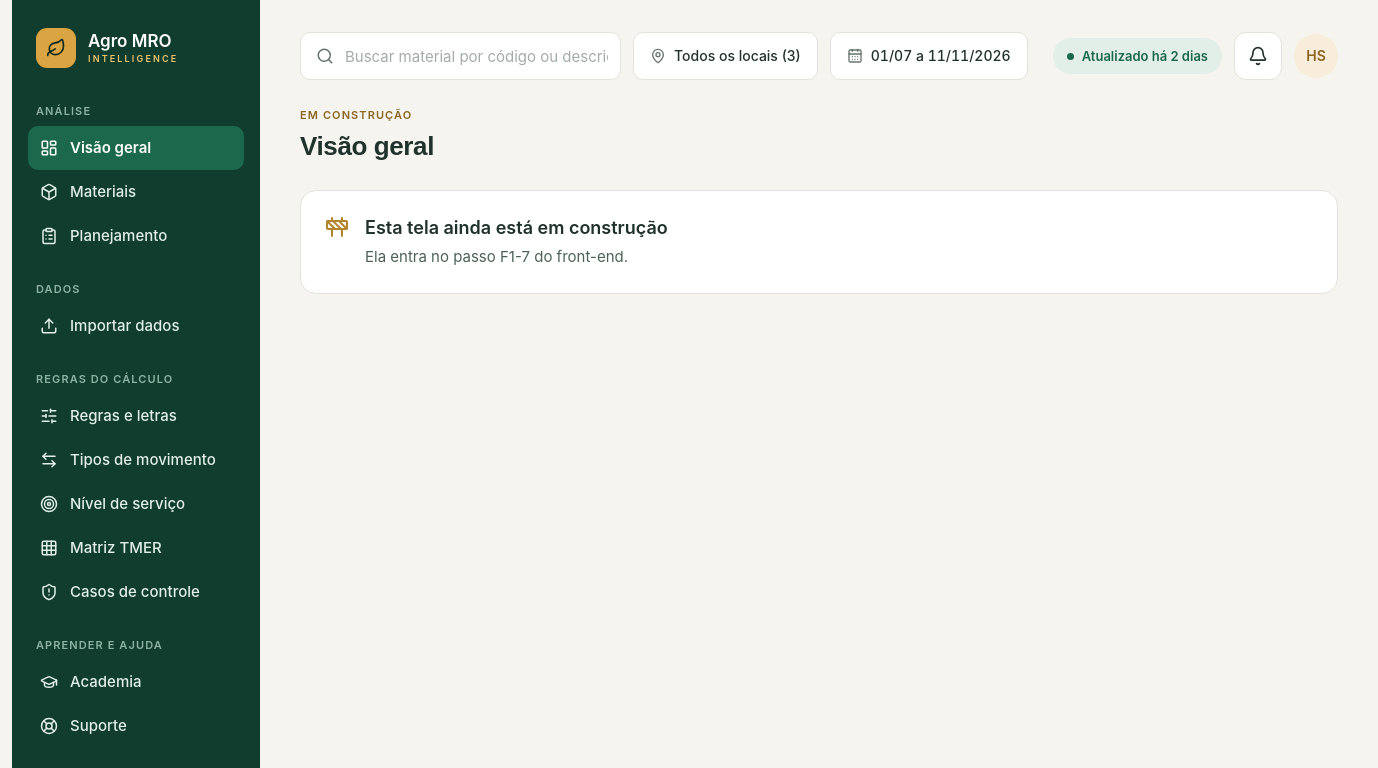
Scenario: BuscaGlobal › Ver tudo em Materiais leva a busca para Materiais
The width and height of the screenshot is (1378, 768).
In the dropdown named "Buscar material ou tela": (461, 56) left=300, top=32, right=621, bottom=80, type "rolamento"
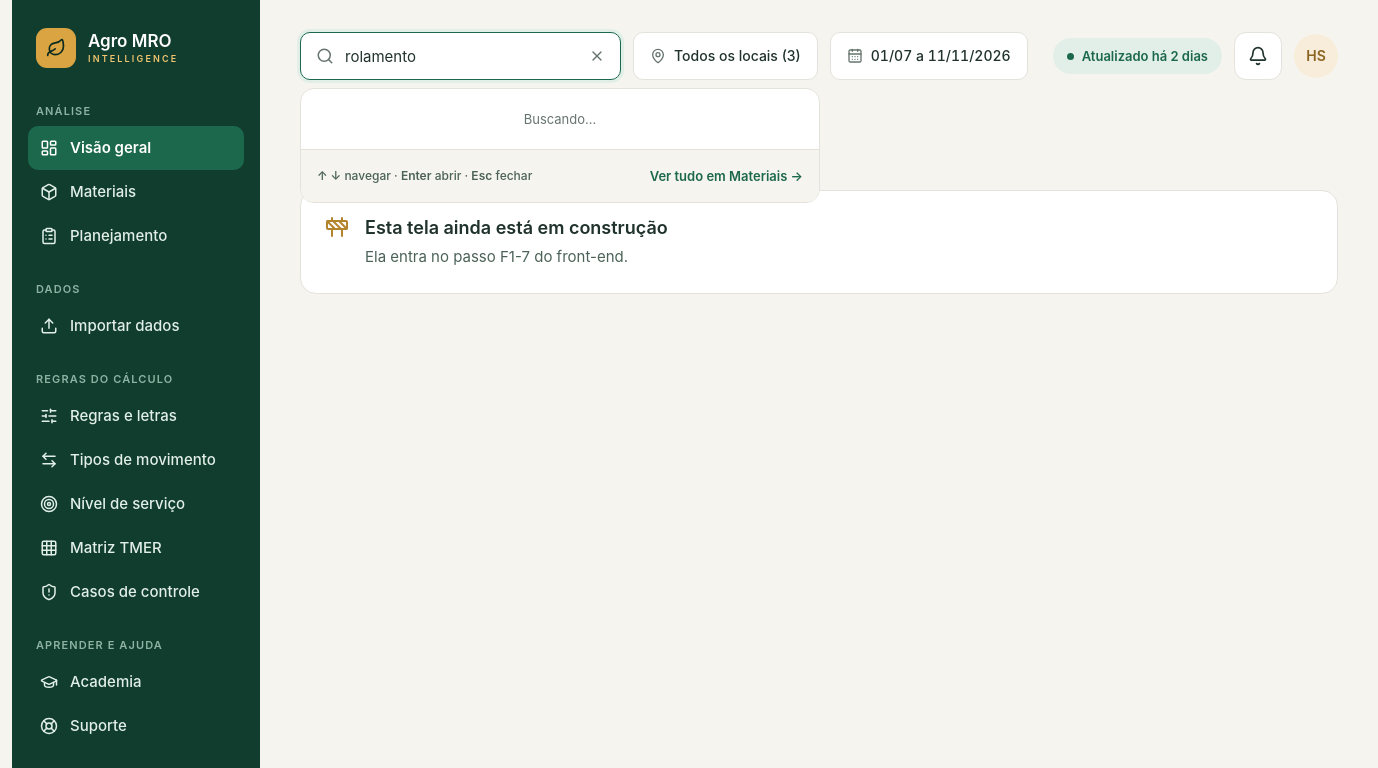
Click the button "Ver tudo em Materiais →": click(726, 176) left=650, top=160, right=803, bottom=192
(page scrolled)
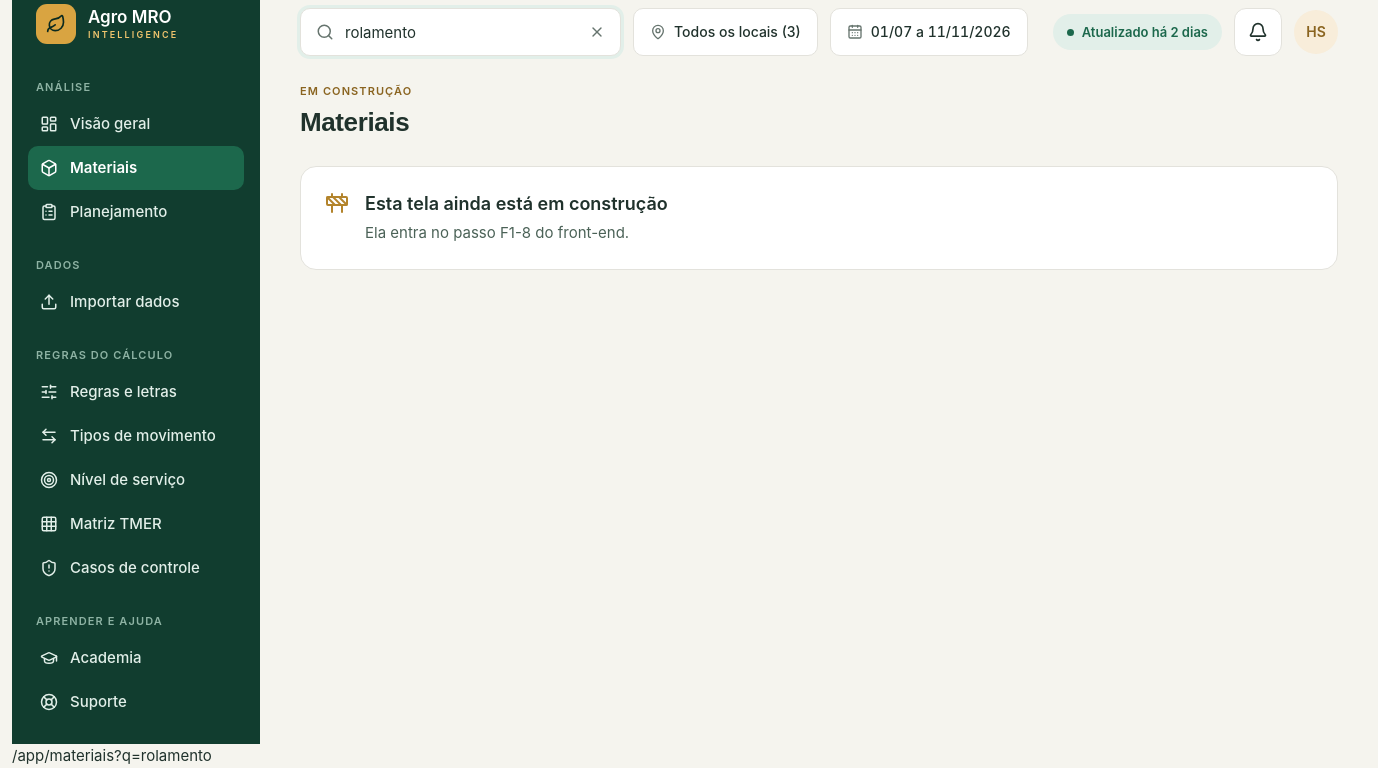
Result: the text with test id "rota-atual" reads "/app/materiais?q=rolamento" at left=12, top=746, right=212, bottom=765
